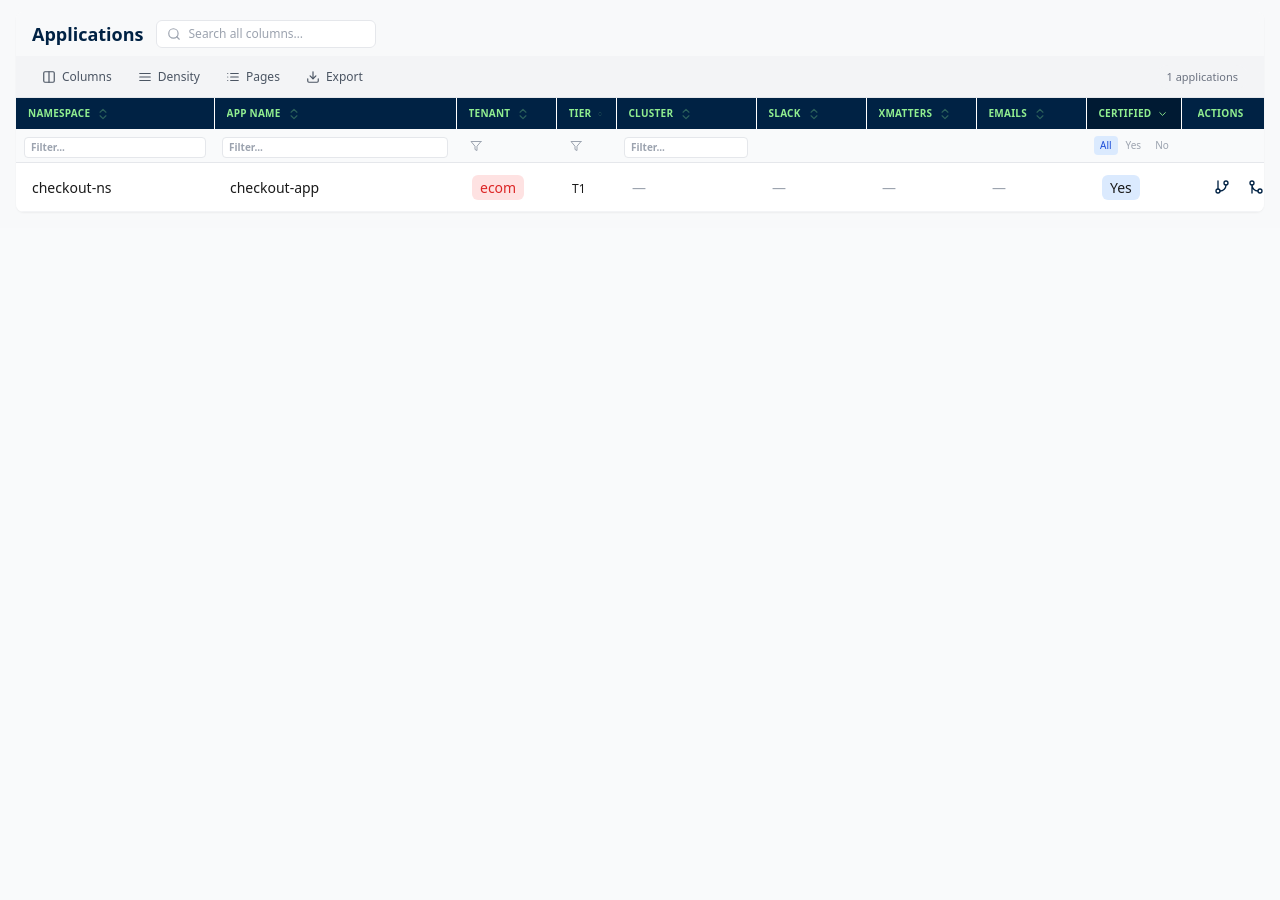
ApplicationsView › downstream dependencies modal › opens the downstream modal when Downstream button is clicked
Step 1. Click the button titled "View downstream dependencies" → [1222, 187], box [1208,173,1236,201]
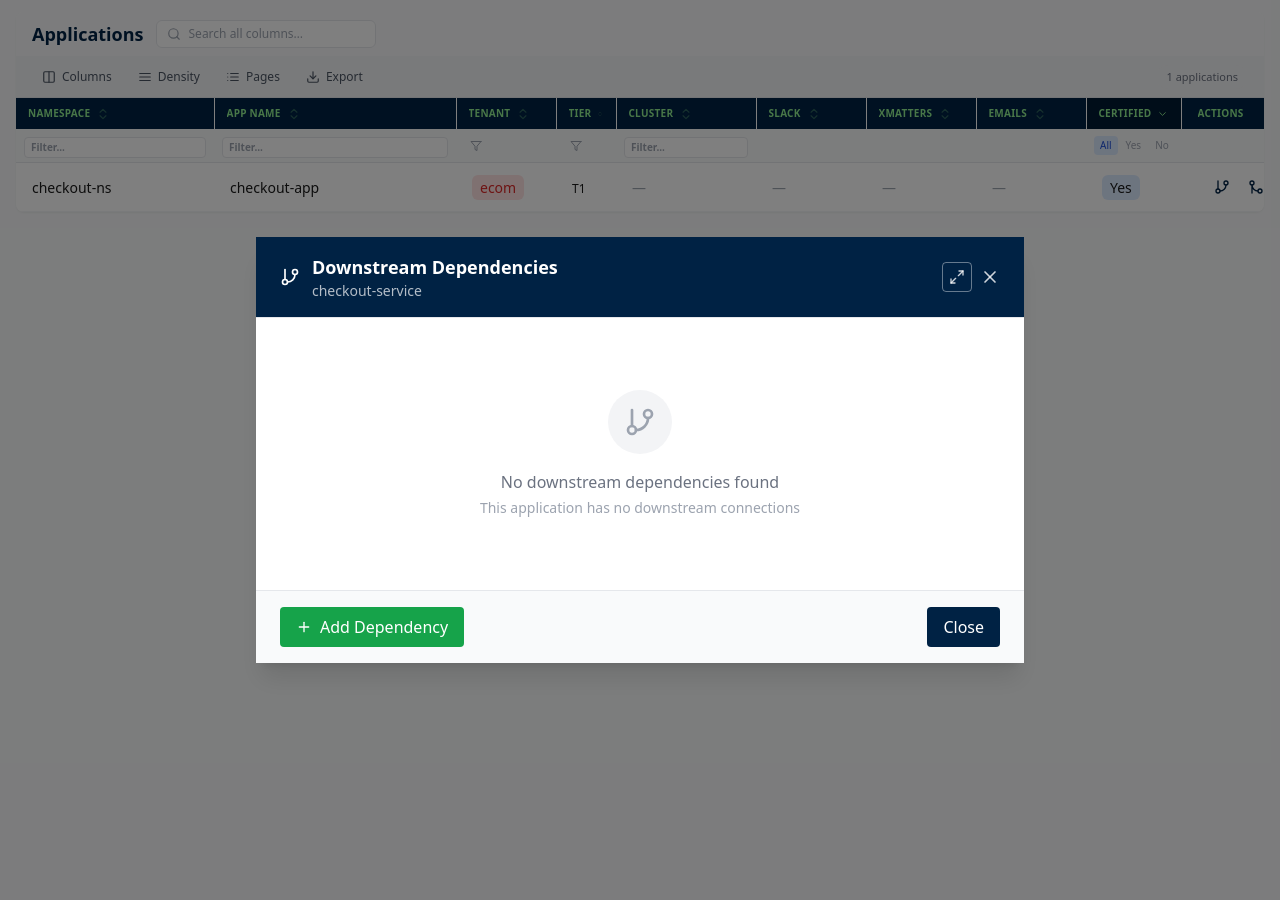
expect the heading "Downstream Dependencies" is shown: met, box [312,253,558,281]
